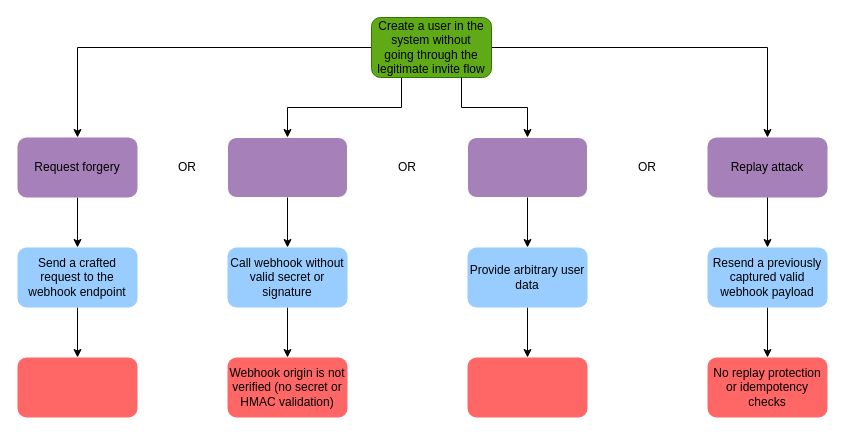
Image size: 844x435. Some labels were removed from this diagram. The centre of each missing label's shape, as x and y in pixels:
Backend trusts webhook payload without validation: point (527, 387)
Missing authentication: point (287, 167)
Payload manipulation: point (527, 167)
Webhook endpoint is publicly accessible and not restricted: point (77, 387)
